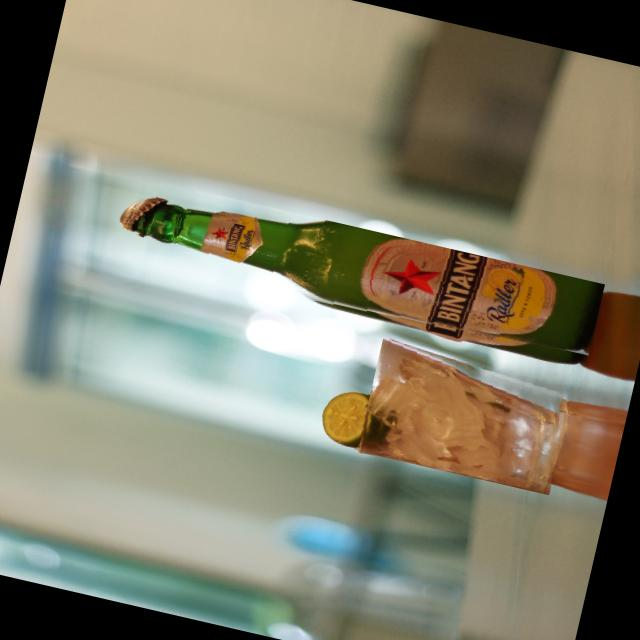Glass: (118, 175, 604, 368), (357, 336, 577, 494)
